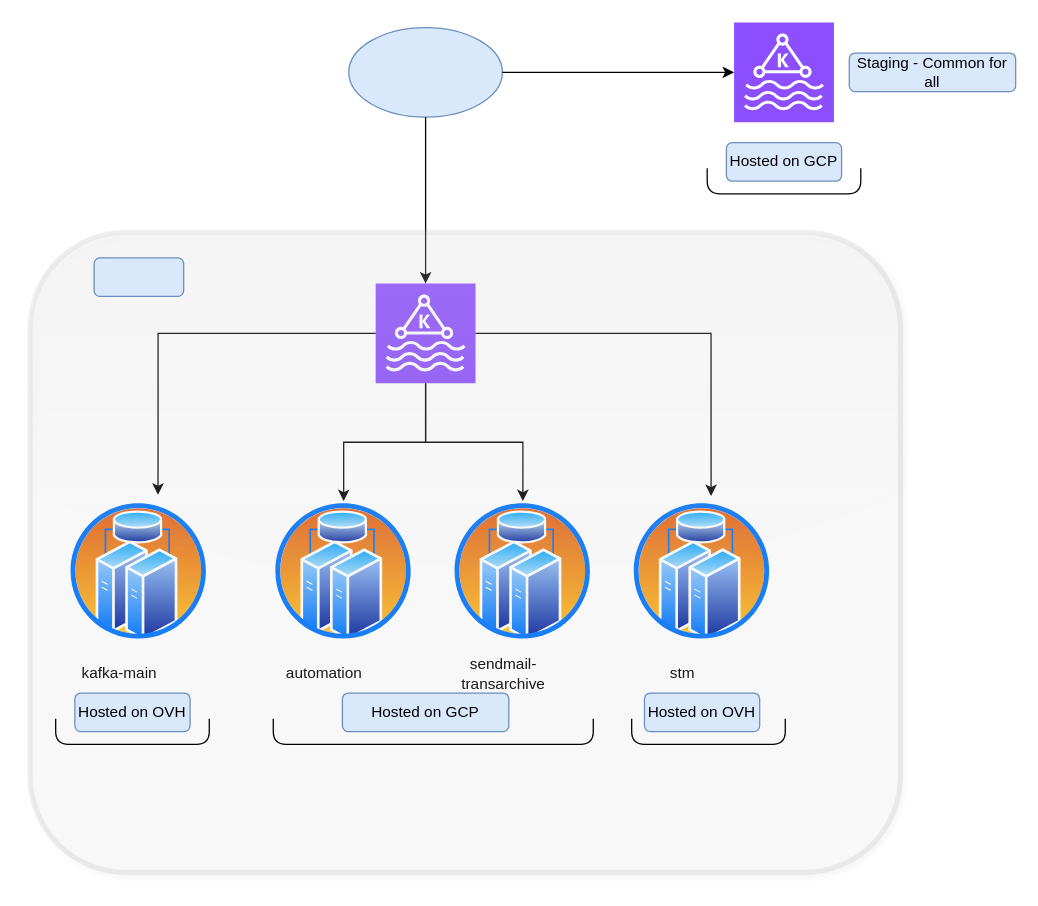
This 1038x906 diagram has some shape labels left out. Each missing label, with the centre of its shape:
"Kafka Environments" belongs at pixel 425 71.
"Production" belongs at pixel 138 276.
